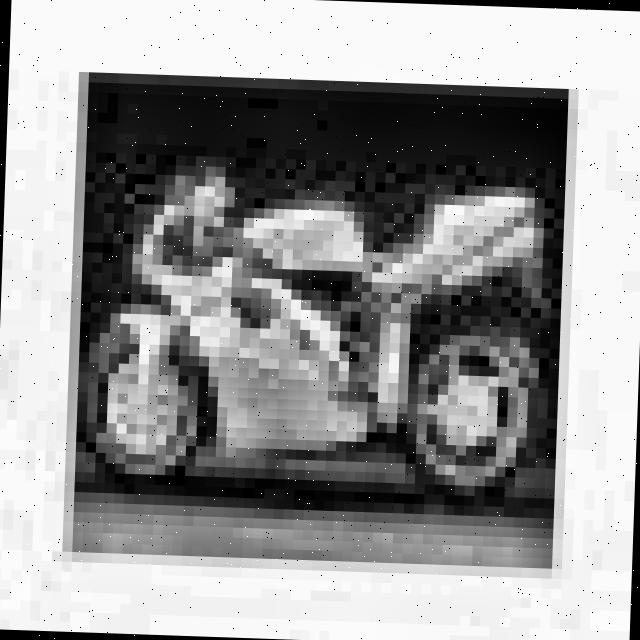mopeds: (66, 147, 552, 518)
